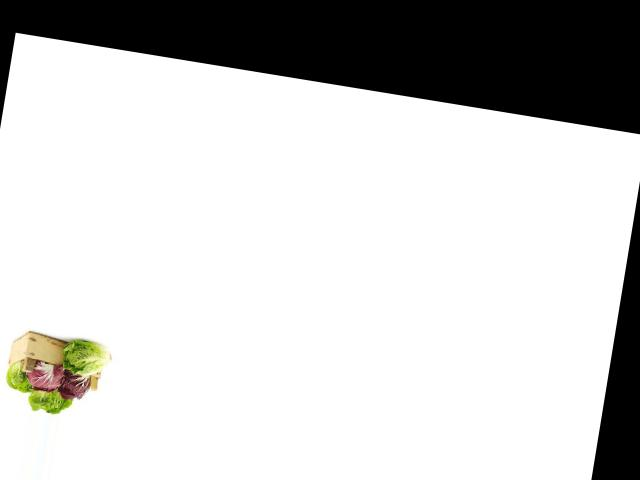lettuce: (26, 380, 74, 417)
